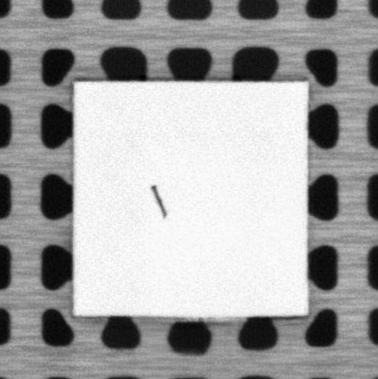DIE_INK: (150, 183, 168, 217)
